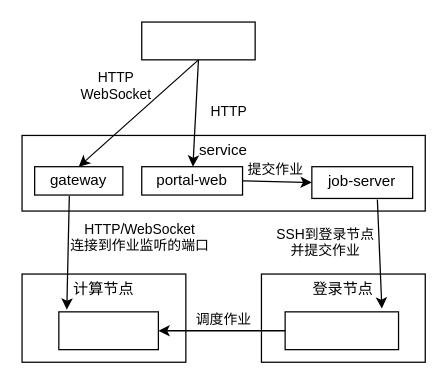
Some shapes in this 447 by 384 pixel diagram are drawn without their labels. Here are the shapes that lost their labels. From the top down, the centre of each, then its label:
point 197,40: 客户端浏览器
point 108,330: 作业
point 341,330: 调度器
